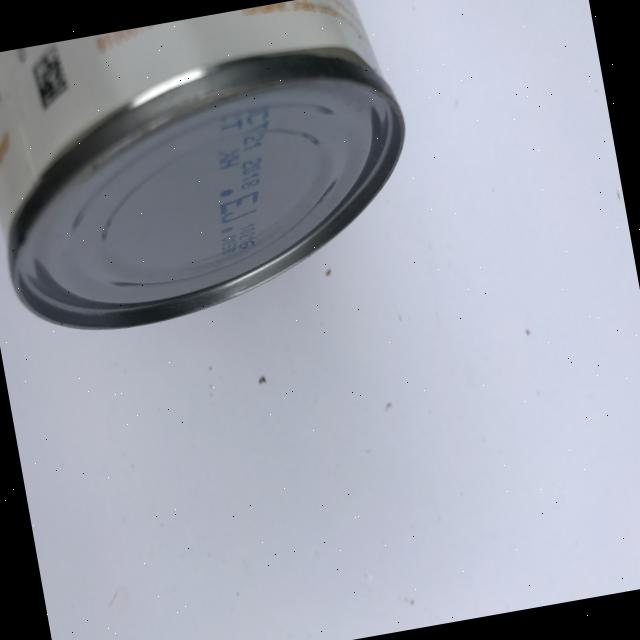metal: (0, 0, 432, 350)
